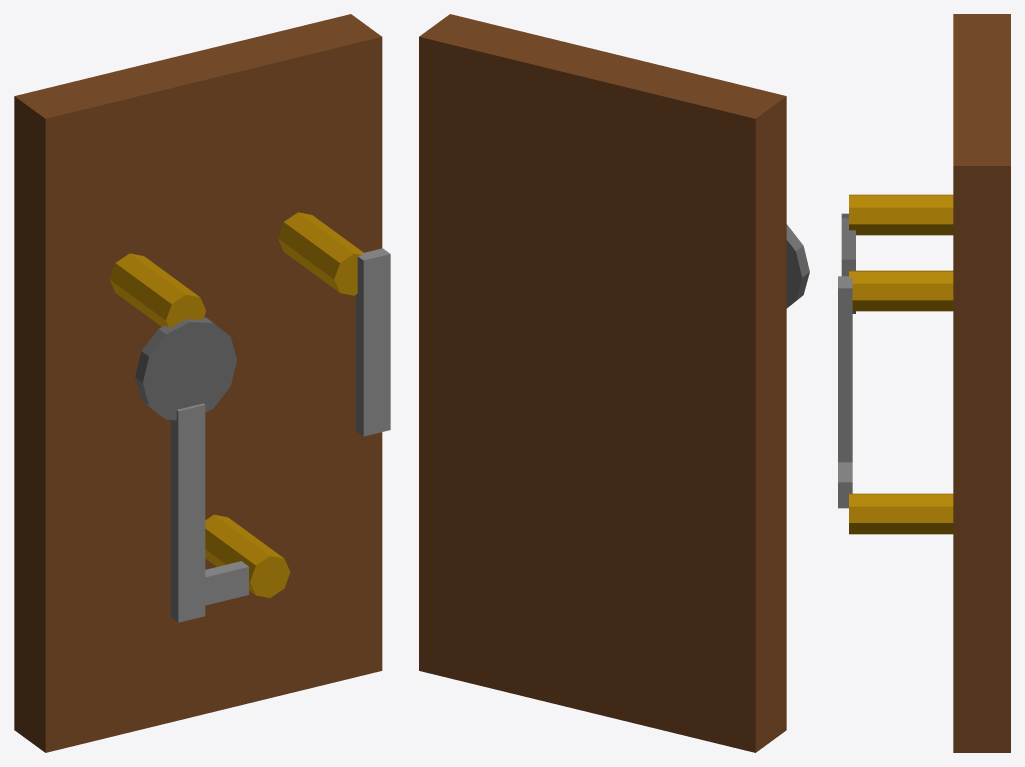
The model's file is MocKhoaCuaHam.glb.
3 renders of one model, left to right at view 1: azimuth 30°, elevation 25°; view 2: azimuth 150°, elevation 25°; view 3: azimuth 270°, elevation 25°, orthographic. The views are drawn at different scales.
Parts seen in each view (by area): view 1: MocKhoaCuaHam, MocKhoaCuaHam_3, MocKhoaCuaHam_1, MocKhoaCuaHam_2; view 2: MocKhoaCuaHam, MocKhoaCuaHam_2; view 3: MocKhoaCuaHam, MocKhoaCuaHam_1, MocKhoaCuaHam_3, MocKhoaCuaHam_2.
Boxes of the visible parts, bbox=[...] form: MocKhoaCuaHam: bbox=[14, 14, 382, 752]; MocKhoaCuaHam_3: bbox=[170, 248, 390, 622]; MocKhoaCuaHam_1: bbox=[109, 212, 363, 597]; MocKhoaCuaHam_2: bbox=[135, 317, 236, 420]; MocKhoaCuaHam: bbox=[419, 14, 786, 752]; MocKhoaCuaHam_2: bbox=[786, 224, 809, 308]; MocKhoaCuaHam: bbox=[953, 14, 1010, 752]; MocKhoaCuaHam_1: bbox=[849, 194, 953, 534]; MocKhoaCuaHam_3: bbox=[838, 276, 852, 508]; MocKhoaCuaHam_2: bbox=[841, 213, 855, 313].
Bounding box in the file's own units: 0.1 × 0.18 × 0.048.
